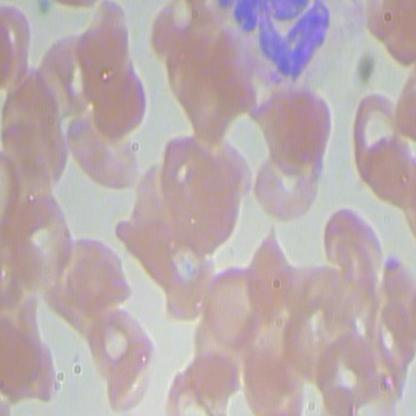RBC: (162, 151, 240, 257), (250, 85, 340, 172), (9, 198, 80, 298), (199, 254, 270, 354), (66, 104, 146, 192), (345, 89, 411, 192), (312, 324, 384, 415), (320, 202, 385, 301), (237, 226, 302, 325), (172, 52, 237, 151), (250, 142, 324, 225), (84, 298, 152, 384), (105, 330, 165, 415), (88, 57, 148, 142), (71, 1, 131, 85)
WBC: (184, 1, 369, 92)
